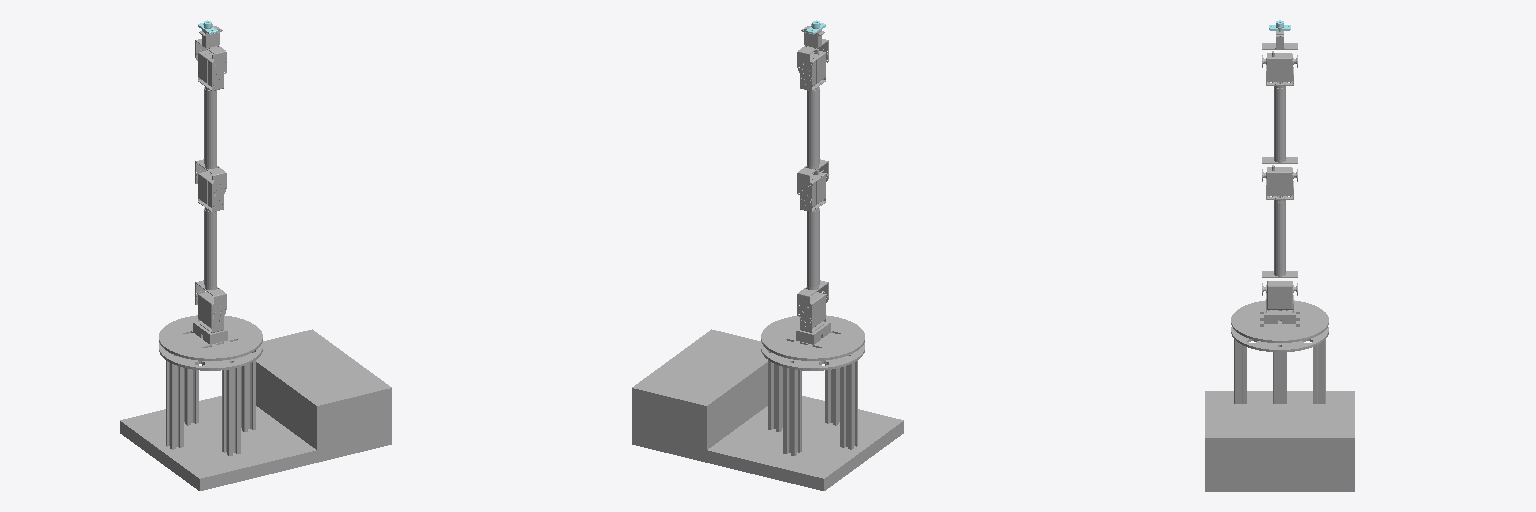
robot.urdf — roboticarm:
<?xml version="1.0" encoding="utf-8"?>
<!-- This URDF was automatically created by SolidWorks to URDF Exporter! Originally created by [author] ([email redacted]) 
     Commit Version: 1.6.0-1-g15f4949  Build Version: 1.6.7594.29634
     For more information, please see http://wiki.ros.org/sw_urdf_exporter -->
<robot
  name="roboticarm">
  <link
    name="base_link">
    <inertial>
      <origin
        xyz="0.12452 -0.12147 -1.0185E-10"
        rpy="0 0 0" />
      <mass
        value="3.6767" />
      <inertia
        ixx="0.02"
        ixy="-0.0016815"
        ixz="-4.4007E-11"
        iyy="0.042264"
        iyz="5.3261E-11"
        izz="0.030985" />
    </inertial>
    <visual>
      <origin
        xyz="0 0 0"
        rpy="0 0 0" />
      <geometry>
        <mesh
          filename="package://roboticarm_description/meshes/base_link.STL" />
      </geometry>
      <material
        name="">
        <color
          rgba="0.75294 0.75294 0.75294 1" />
      </material>
    </visual>
    <collision>
      <origin
        xyz="0 0 0"
        rpy="0 0 0" />
      <geometry>
        <mesh
          filename="package://roboticarm_description/meshes/base_link.STL" />
      </geometry>
    </collision>
  </link>
  <link
    name="a1">
    <inertial>
      <origin
        xyz="1.8207E-07 -4.052E-05 0.016094"
        rpy="0 0 0" />
      <mass
        value="0.14175" />
      <inertia
        ixx="0.00017926"
        ixy="-4.8859E-13"
        ixz="6.7872E-13"
        iyy="0.00017219"
        iyz="1.9531E-07"
        izz="0.00024808" />
    </inertial>
    <visual>
      <origin
        xyz="0 0 0"
        rpy="0 0 0" />
      <geometry>
        <mesh
          filename="package://roboticarm_description/meshes/a1.STL" />
      </geometry>
      <material
        name="">
        <color
          rgba="0.75294 0.75294 0.75294 1" />
      </material>
    </visual>
    <collision>
      <origin
        xyz="0 0 0"
        rpy="0 0 0" />
      <geometry>
        <mesh
          filename="package://roboticarm_description/meshes/a1.STL" />
      </geometry>
    </collision>
  </link>
  <joint
    name="joint1"
    type="revolute">
    <origin
      xyz="0 0 0.0123"
      rpy="0 0 0" />
    <parent
      link="base_link" />
    <child
      link="a1" />
    <axis
      xyz="0 0 -1" />
    <limit
      lower="-1.5707"
      upper="1.5707"
      effort="0"
      velocity="0" />
  </joint>
  <link
    name="a2">
    <inertial>
      <origin
        xyz="1.2909E-05 0.14223 -0.026838"
        rpy="0 0 0" />
      <mass
        value="0.073086" />
      <inertia
        ixx="0.00032073"
        ixy="-3.7457E-08"
        ixz="1.2906E-08"
        iyy="1.6554E-05"
        iyz="1.0166E-06"
        izz="0.00030897" />
    </inertial>
    <visual>
      <origin
        xyz="0 0 0"
        rpy="0 0 0" />
      <geometry>
        <mesh
          filename="package://roboticarm_description/meshes/a2.STL" />
      </geometry>
      <material
        name="">
        <color
          rgba="0.75294 0.75294 0.75294 1" />
      </material>
    </visual>
    <collision>
      <origin
        xyz="0 0 0"
        rpy="0 0 0" />
      <geometry>
        <mesh
          filename="package://roboticarm_description/meshes/a2.STL" />
      </geometry>
    </collision>
  </link>
  <joint
    name="joint2"
    type="revolute">
    <origin
      xyz="0 0.026799 0.0573"
      rpy="1.5708 0 -3.1416" />
    <parent
      link="a1" />
    <child
      link="a2" />
    <axis
      xyz="0 0 1" />
    <limit
      lower="-1.5707"
      upper="1.5707"
      effort="0"
      velocity="0" />
  </joint>
  <link
    name="a3">
    <inertial>
      <origin
        xyz="1.2909E-05 0.14223 -0.026838"
        rpy="0 0 0" />
      <mass
        value="0.073086" />
      <inertia
        ixx="0.00032073"
        ixy="-3.7457E-08"
        ixz="1.2906E-08"
        iyy="1.6554E-05"
        iyz="1.0166E-06"
        izz="0.00030897" />
    </inertial>
    <visual>
      <origin
        xyz="0 0 0"
        rpy="0 0 0" />
      <geometry>
        <mesh
          filename="package://roboticarm_description/meshes/a3.STL" />
      </geometry>
      <material
        name="">
        <color
          rgba="0.75294 0.75294 0.75294 1" />
      </material>
    </visual>
    <collision>
      <origin
        xyz="0 0 0"
        rpy="0 0 0" />
      <geometry>
        <mesh
          filename="package://roboticarm_description/meshes/a3.STL" />
      </geometry>
    </collision>
  </link>
  <joint
    name="joint3"
    type="revolute">
    <origin
      xyz="0 0.1923 0"
      rpy="0 0 0" />
    <parent
      link="a2" />
    <child
      link="a3" />
    <axis
      xyz="0 0 -1" />
    <limit
      lower="-0.785"
      upper="2.355"
      effort="0"
      velocity="0" />
  </joint>
  <link
    name="a4">
    <inertial>
      <origin
        xyz="0.0001899 0.025592 -0.027047"
        rpy="0 0 0" />
      <mass
        value="0.018609" />
      <inertia
        ixx="1.1167E-05"
        ixy="-1.0471E-07"
        ixz="-8.7301E-10"
        iyy="6.5182E-06"
        iyz="-1.5562E-07"
        izz="6.0668E-06" />
    </inertial>
    <visual>
      <origin
        xyz="0 0 0"
        rpy="0 0 0" />
      <geometry>
        <mesh
          filename="package://roboticarm_description/meshes/a4.STL" />
      </geometry>
      <material
        name="">
        <color
          rgba="0.75294 0.75294 0.75294 1" />
      </material>
    </visual>
    <collision>
      <origin
        xyz="0 0 0"
        rpy="0 0 0" />
      <geometry>
        <mesh
          filename="package://roboticarm_description/meshes/a4.STL" />
      </geometry>
    </collision>
  </link>
  <joint
    name="joint4"
    type="revolute">
    <origin
      xyz="0 0.1923 0"
      rpy="0 0 0" />
    <parent
      link="a3" />
    <child
      link="a4" />
    <axis
      xyz="0 0 -1" />
    <limit
      lower="-1.5707"
      upper="1.5707"
      effort="0"
      velocity="0" />
  </joint>
  <link
    name="a5">
    <inertial>
      <origin
        xyz="-7.2474E-17 4.9353E-16 0.0050268"
        rpy="0 0 0" />
      <mass
        value="0.0022417" />
      <inertia
        ixx="5.6638E-08"
        ixy="-3.3824E-20"
        ixz="-5.1804E-23"
        iyy="1.6656E-07"
        iyz="-5.6815E-22"
        izz="1.8128E-07" />
    </inertial>
    <visual>
      <origin
        xyz="0 0 0"
        rpy="0 0 0" />
      <geometry>
        <mesh
          filename="package://roboticarm_description/meshes/a5.STL" />
      </geometry>
      <material
        name="">
        <color
          rgba="0.71765 0.96471 1 1" />
      </material>
    </visual>
    <collision>
      <origin
        xyz="0 0 0"
        rpy="0 0 0" />
      <geometry>
        <mesh
          filename="package://roboticarm_description/meshes/a5.STL" />
      </geometry>
    </collision>
  </link>
  <joint
    name="joint5"
    type="revolute">
    <origin
      xyz="0.00525 0.06125 -0.0268"
      rpy="1.5708 -1.5708 0" />
    <parent
      link="a4" />
    <child
      link="a5" />
    <axis
      xyz="0 0 -1" />
    <limit
      lower="-1.5707"
      upper="1.5707"
      effort="0"
      velocity="0" />
  </joint>
</robot>

--- What the picture shows (computed from the rendered views, not written in the file) ---
The picture shows the robot from 3 angles, left to right: view 1: azimuth 30°, elevation 25°; view 2: azimuth 150°, elevation 25°; view 3: azimuth 270°, elevation 25°; orthographic projection.
Model roboticarm with 6 links and 5 joints (5 revolute), rooted at base_link, posed every joint at zero.
Visible links, largest first — view 1: base_link, a1, a2, a3, a4; view 2: base_link, a1, a3, a2, a4; view 3: base_link, a1, a3, a2.
Boxes of the visible links, x1,y1,x2,y2 form: base_link: [120, 329, 391, 490]; a1: [159, 292, 262, 360]; a2: [195, 171, 226, 317]; a3: [195, 50, 226, 196]; a4: [195, 24, 226, 76]; base_link: [632, 329, 903, 490]; a1: [761, 292, 864, 360]; a3: [797, 49, 828, 197]; a2: [797, 170, 828, 318]; a4: [797, 24, 828, 74]; base_link: [1205, 314, 1354, 491]; a1: [1231, 281, 1328, 342]; a3: [1262, 51, 1297, 181]; a2: [1262, 165, 1297, 295].
Size in the robot's own frame: 0.32 by 0.23 by 0.68 metres.
Meshes: 6 distinct files referenced, 6 mesh visuals loaded (6 binary STL).